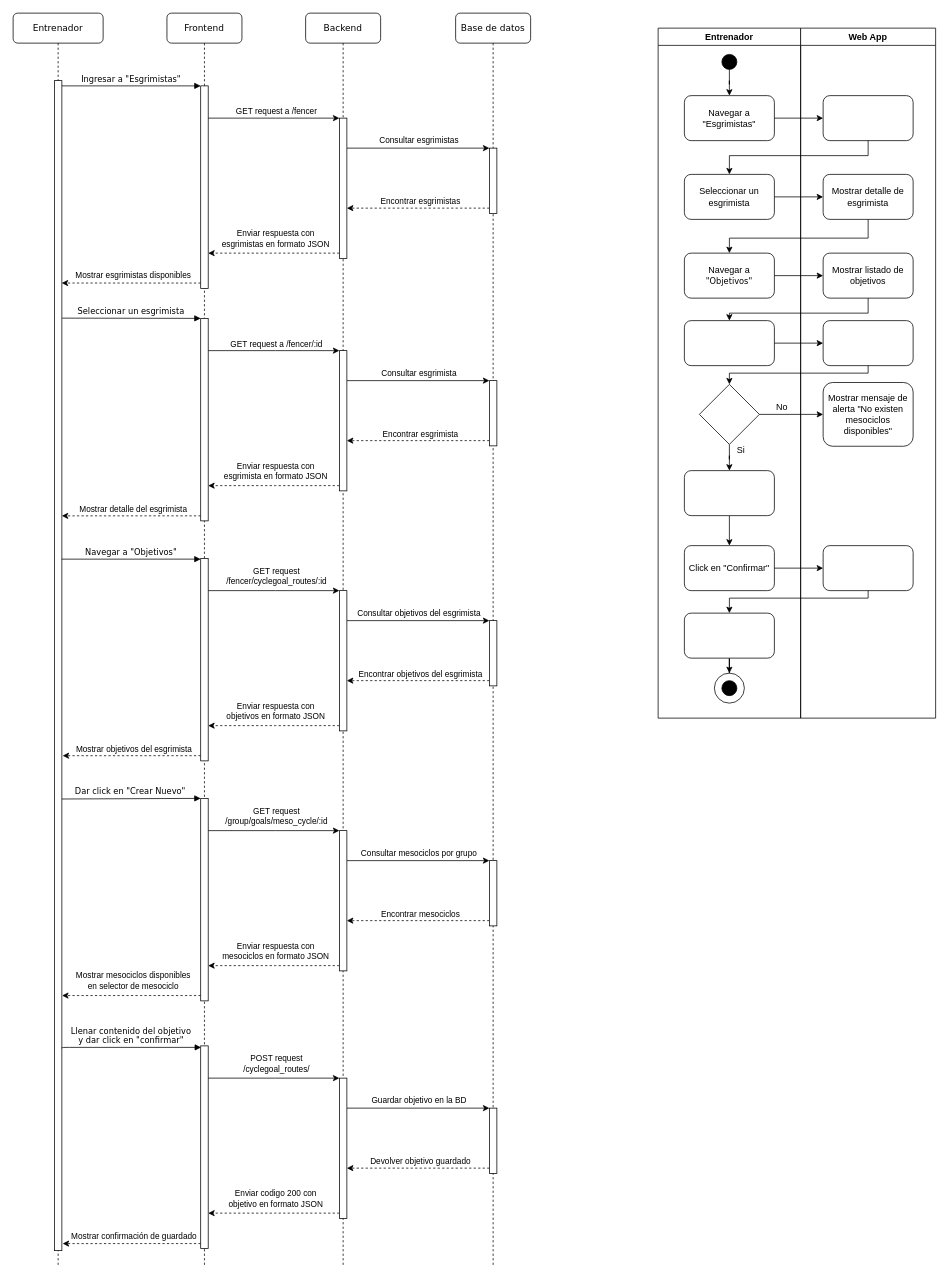
This 949x1279 diagram has some shape labels left out. Each missing label, with the centre of its shape:
Click en "Crear Nuevo": point (729, 343)
Completar formulario de creación: point (729, 493)
Guardar Objetivo: point (867, 568)
Mesociclos disponibles: point (729, 414)
Mostrar formulario de creación de objetivo: point (867, 343)
Mostrar Listado de esgrimistas: point (867, 118)
Mostrar mensaje de confirmación: point (729, 635)
